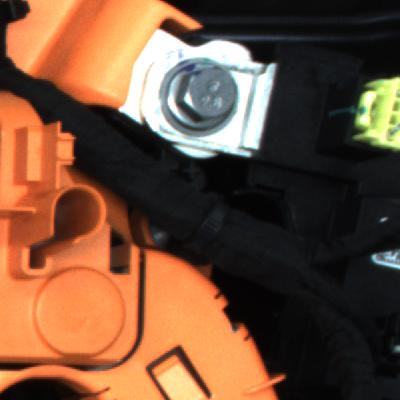nut_b: (149, 51, 263, 150)
